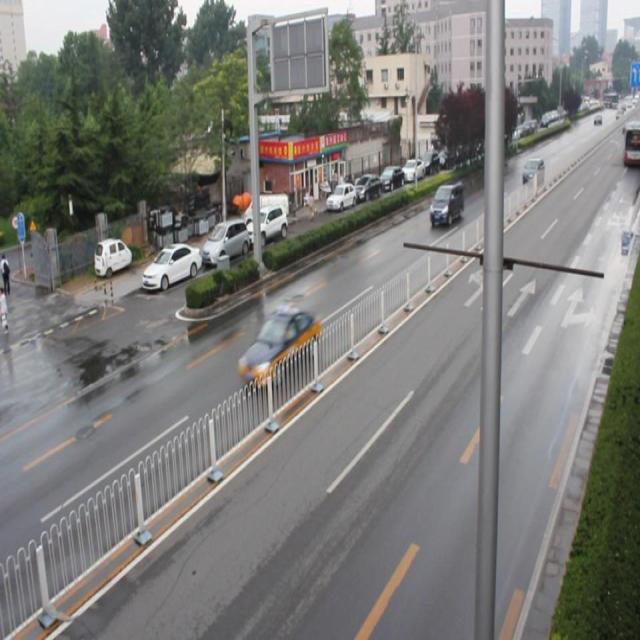car: (237, 306, 322, 385), (429, 183, 461, 227)
